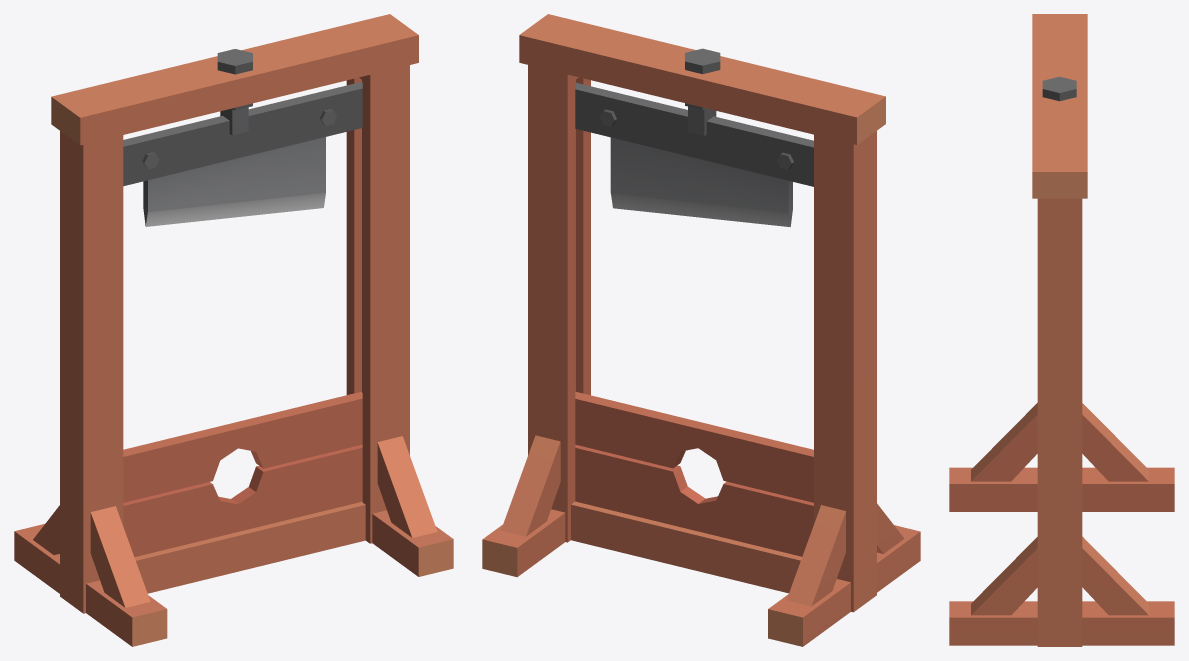
Rendered from torture2.fbx.
3 views of the same model, side by side, from view 1: azimuth 30°, elevation 25°; view 2: azimuth 150°, elevation 25°; view 3: azimuth 270°, elevation 25° (orthographic). The views are drawn at different scales.
Parts seen in each view (by area): view 1: torture2, knife, handcuffs2; view 2: torture2, knife, handcuffs2; view 3: torture2.
Part boxes in pixels (<box>): torture2: <box>14,14,453,646</box>; knife: <box>123,82,362,226</box>; handcuffs2: <box>123,392,362,502</box>; torture2: <box>482,14,920,646</box>; knife: <box>575,82,813,227</box>; handcuffs2: <box>575,392,813,502</box>; torture2: <box>949,14,1174,646</box>.
Bounding box in the file's own units: 122 × 174 × 73.35.
